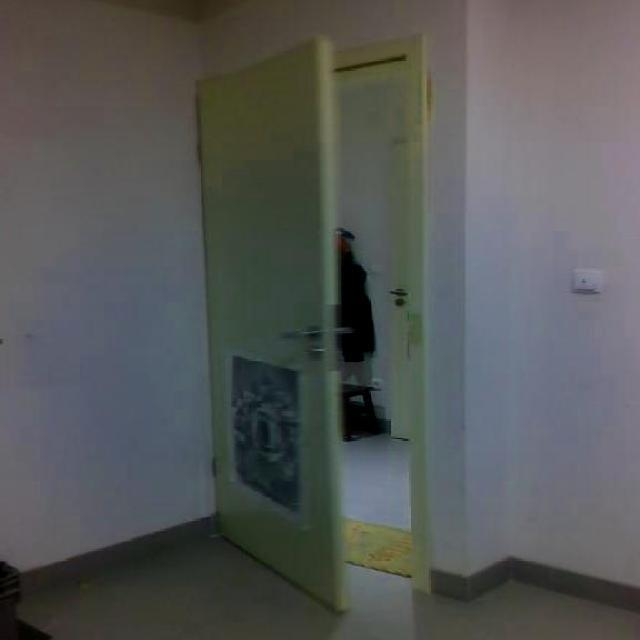door: (194, 29, 363, 625)
